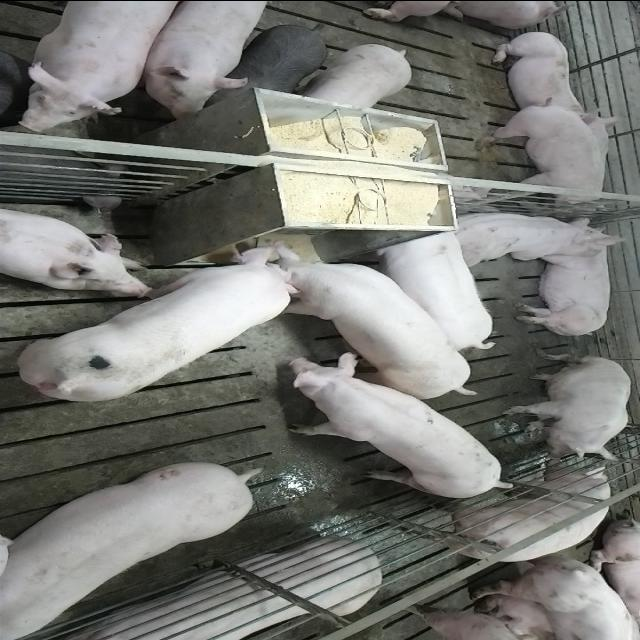Feeding: (16, 241, 302, 404), (256, 239, 478, 400)
Lateral_lying: (512, 216, 630, 338)
Sitting: (501, 354, 633, 460)
Standing: (4, 456, 264, 635), (274, 358, 520, 501), (12, 2, 195, 132), (409, 460, 612, 560), (366, 225, 496, 354), (142, 3, 272, 117), (472, 102, 608, 208), (479, 564, 640, 640), (220, 22, 330, 94), (296, 42, 412, 110), (0, 17, 31, 131)
Sternal_lying: (43, 540, 380, 640), (0, 202, 154, 294), (449, 206, 613, 263), (488, 29, 592, 116), (569, 106, 623, 158)
